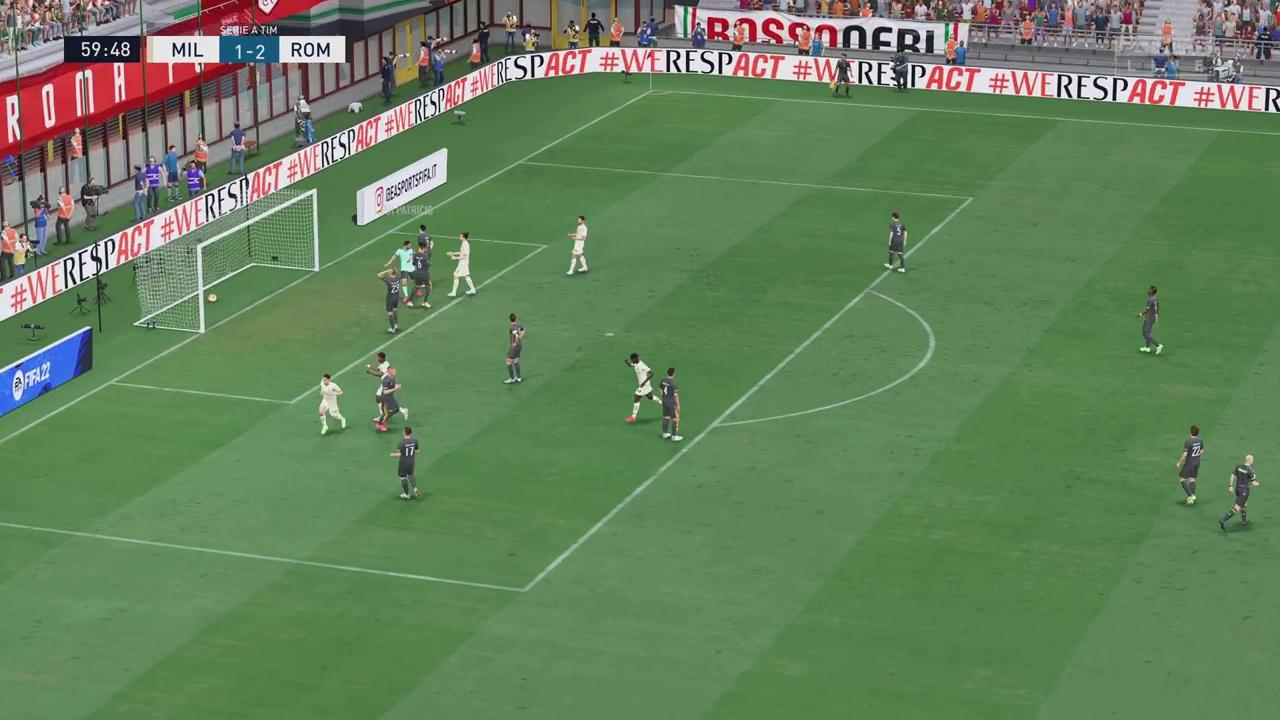scoreboard: (145, 34, 349, 64)
timestamp: (63, 35, 139, 63)
